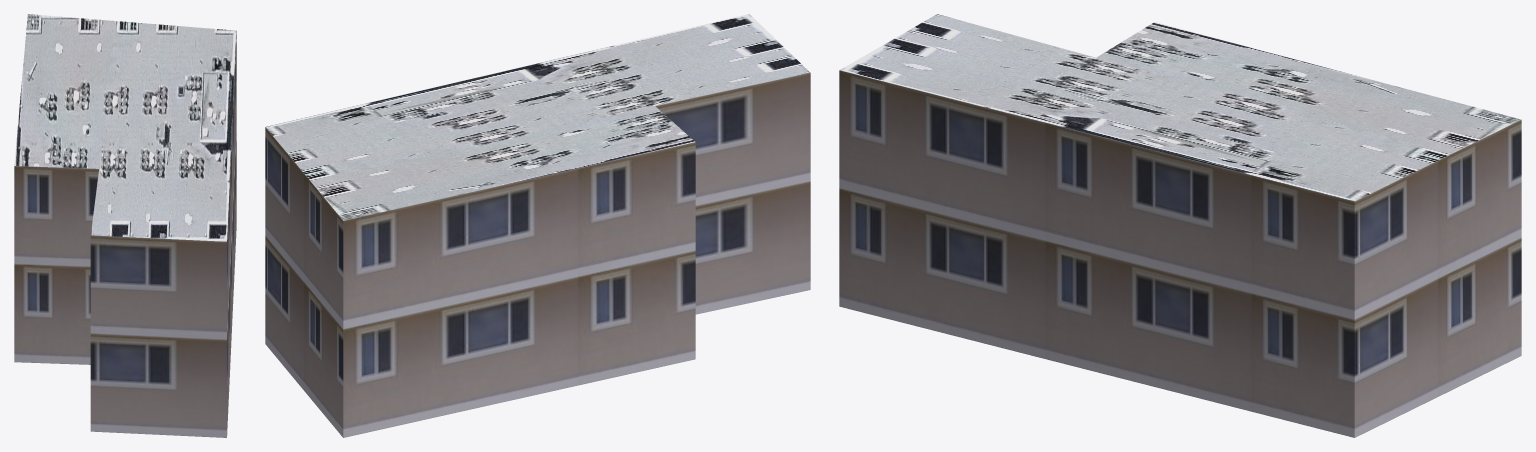
Rendered from ResTex__4988.fbx.
3 views of the same model, side by side, from view 1: azimuth 30°, elevation 25°; view 2: azimuth 150°, elevation 25°; view 3: azimuth 270°, elevation 25° (orthographic). The views are drawn at different scales.
Parts seen in each view (by area): view 1: CityEngineMaterial_21_m, CityEngineMaterial_4_m; view 2: CityEngineMaterial_21_m, CityEngineMaterial_4_m; view 3: CityEngineMaterial_21_m, CityEngineMaterial_4_m.
Boxes of the visible parts, x1,y1,x2,y2 form: CityEngineMaterial_21_m: [14, 35, 236, 437]; CityEngineMaterial_4_m: [14, 14, 236, 241]; CityEngineMaterial_21_m: [265, 73, 810, 437]; CityEngineMaterial_4_m: [266, 14, 810, 220]; CityEngineMaterial_21_m: [839, 70, 1521, 437]; CityEngineMaterial_4_m: [840, 14, 1520, 201].
Bounding box in the file's own units: 10.21 × 6 × 15.69.
2 materials, 2 textured.
